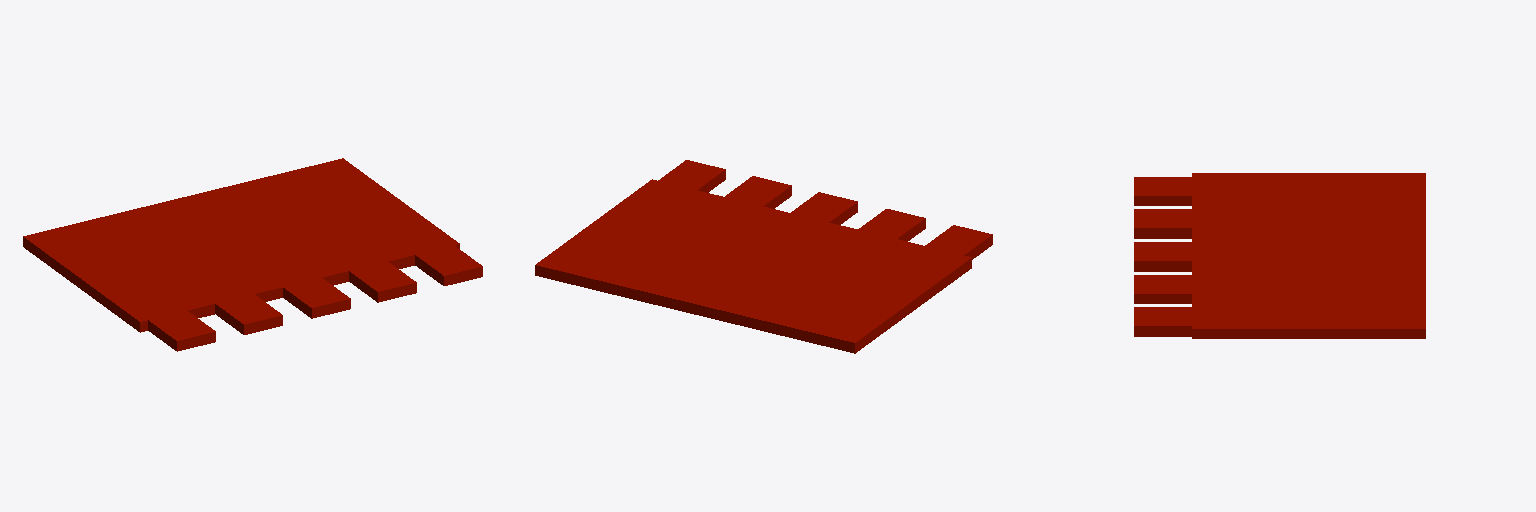
The model's file is wall.obj.
3 renders of one model, left to right at view 1: azimuth 30°, elevation 25°; view 2: azimuth 150°, elevation 25°; view 3: azimuth 270°, elevation 25°, orthographic.
Parts seen in each view (by area): view 1: Cube, Cube.003, Cube.002, Cube.001, Cube.004, Cube.005; view 2: Cube, Cube.001, Cube.005, Cube.002, Cube.004, Cube.003; view 3: Cube, Cube.003, Cube.005, Cube.002, Cube.001, Cube.004.
Boxes of the visible parts, x1=… form: Cube: x1=23, y1=158, x2=459, y2=332; Cube.003: x1=283, y1=277, x2=350, y2=318; Cube.002: x1=215, y1=294, x2=282, y2=334; Cube.001: x1=148, y1=311, x2=215, y2=351; Cube.004: x1=349, y1=261, x2=416, y2=302; Cube.005: x1=415, y1=245, x2=482, y2=285; Cube: x1=535, y1=179, x2=971, y2=353; Cube.001: x1=925, y1=225, x2=992, y2=259; Cube.005: x1=658, y1=160, x2=725, y2=192; Cube.002: x1=858, y1=209, x2=925, y2=241; Cube.004: x1=725, y1=176, x2=791, y2=208; Cube.003: x1=791, y1=192, x2=857, y2=224; Cube: x1=1192, y1=173, x2=1425, y2=338; Cube.003: x1=1134, y1=242, x2=1192, y2=271; Cube.005: x1=1134, y1=307, x2=1192, y2=336; Cube.002: x1=1134, y1=209, x2=1192, y2=238; Cube.001: x1=1134, y1=177, x2=1192, y2=205; Cube.004: x1=1134, y1=275, x2=1192, y2=303.
Size of the model in its own units: 1.22 by 0.0387 by 0.964.